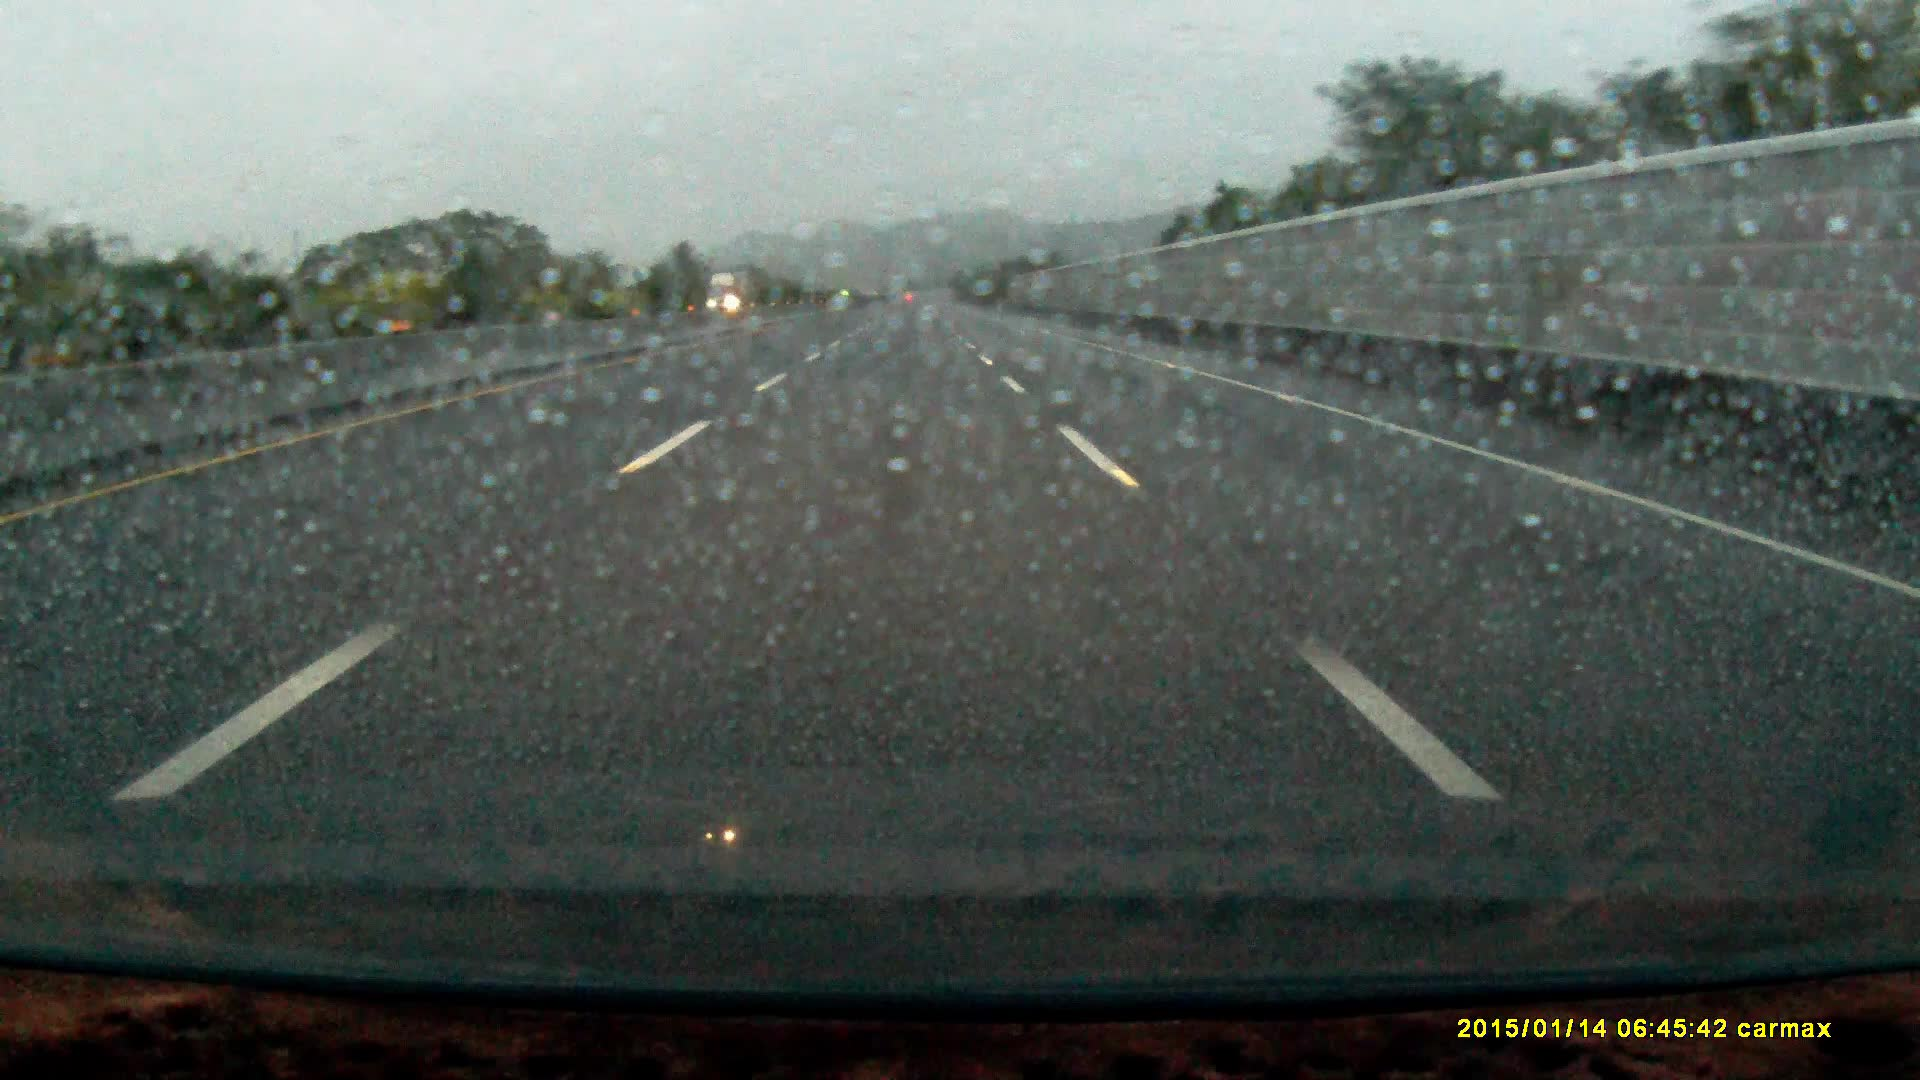vehicle: (704, 274, 750, 318)
